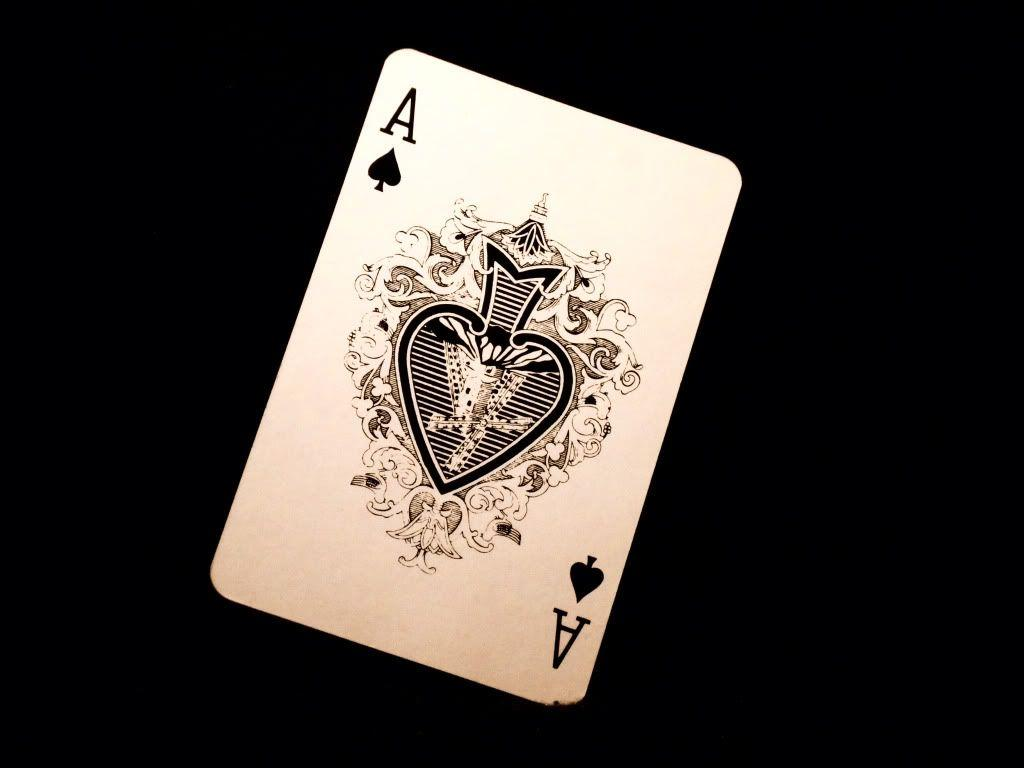ace of spades: (208, 41, 744, 707)
